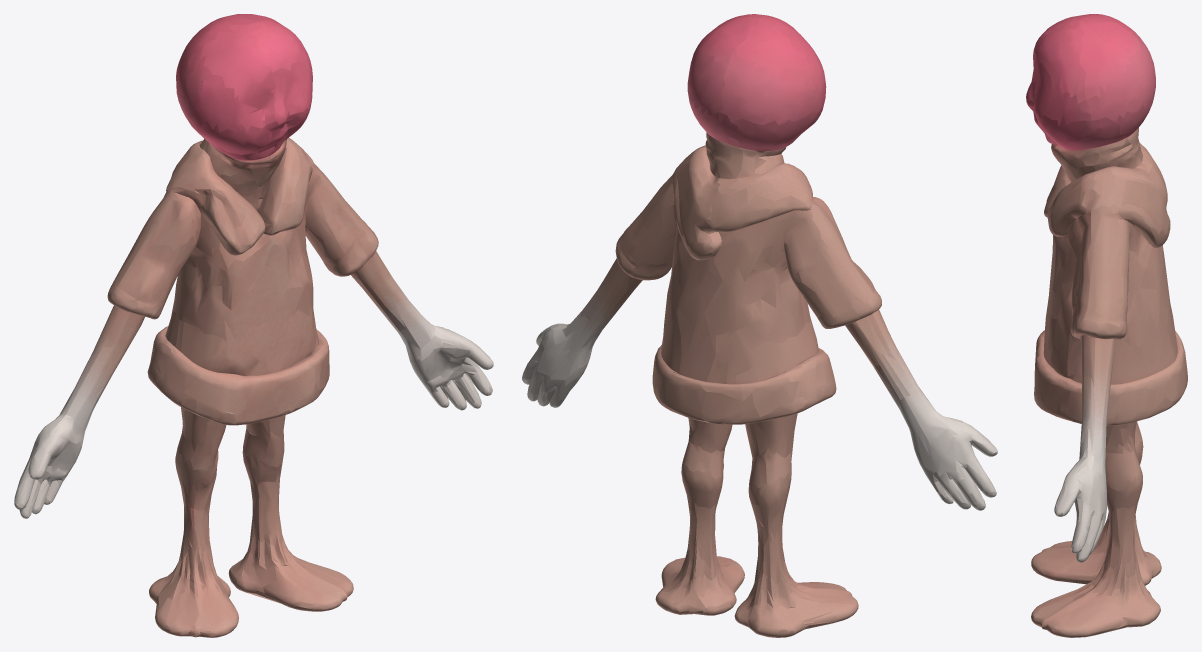
3 views of the same model, side by side, from view 1: azimuth 30°, elevation 25°; view 2: azimuth 150°, elevation 25°; view 3: azimuth 270°, elevation 25° (orthographic).
Size of the model in its own units: 1.62 by 1.9 by 0.4853.
Materials: 1 (1 with a texture image).
